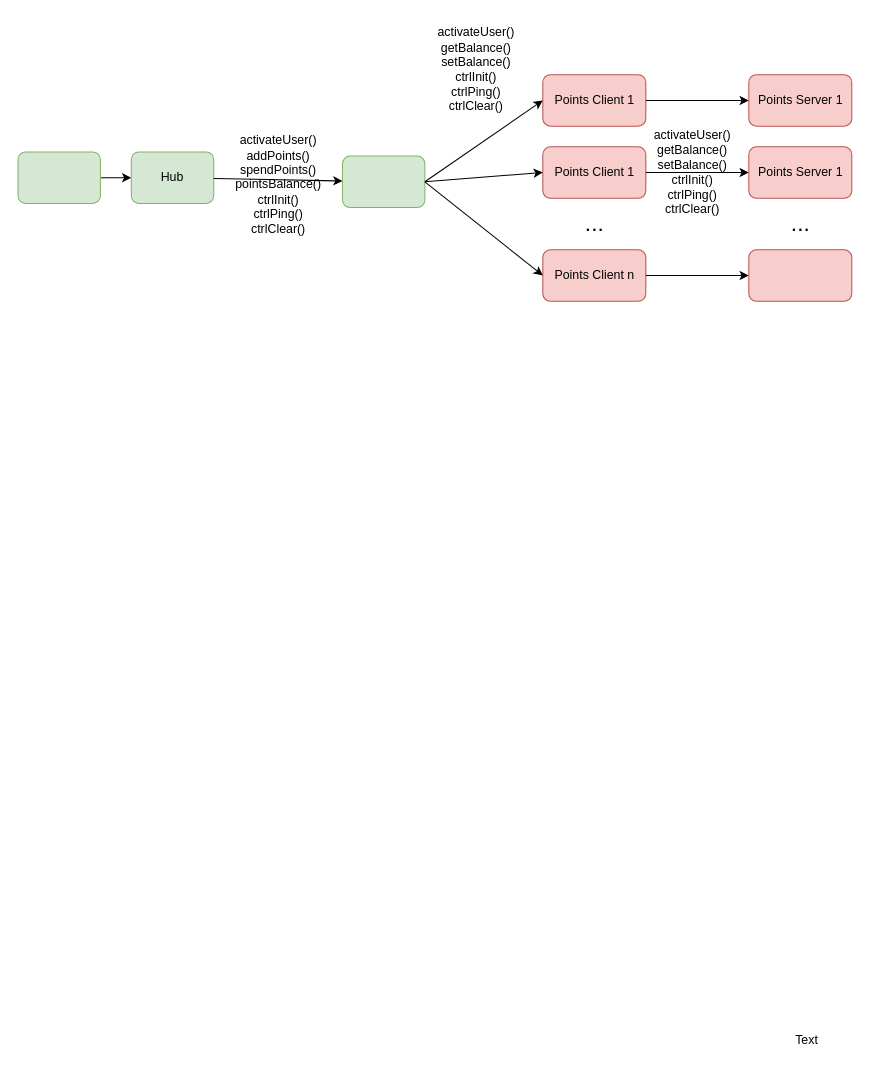
This 870x1068 diagram has some shape labels left out. Each missing label, with the centre of its shape:
"Hub Client" belongs at point (58, 177).
"Points Front End" belongs at point (383, 181).
"Points Server n" belongs at point (800, 275).
